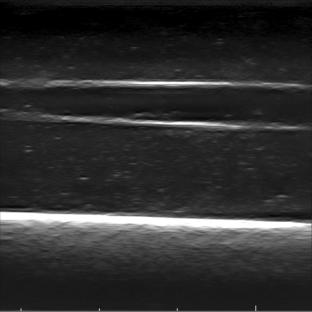vessel: (7, 79, 311, 128)
